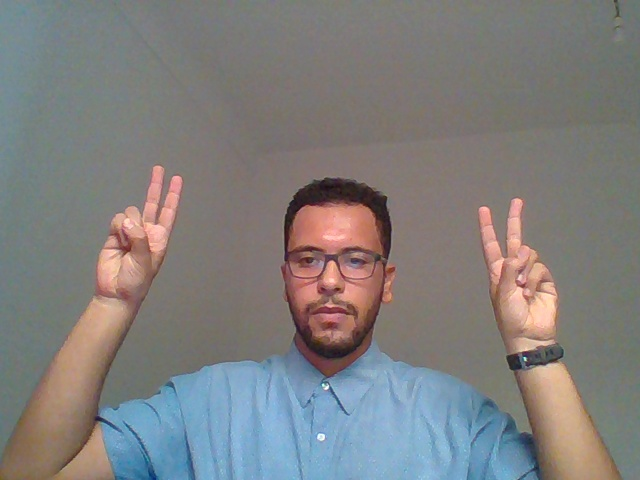vectory: (40, 136, 191, 401), (450, 181, 575, 430)
